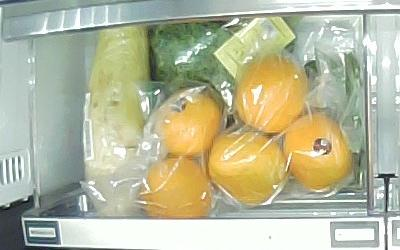orange_vinyl: (235, 55, 309, 133), (209, 132, 288, 203), (284, 113, 352, 190), (156, 90, 222, 159), (142, 158, 212, 217)
